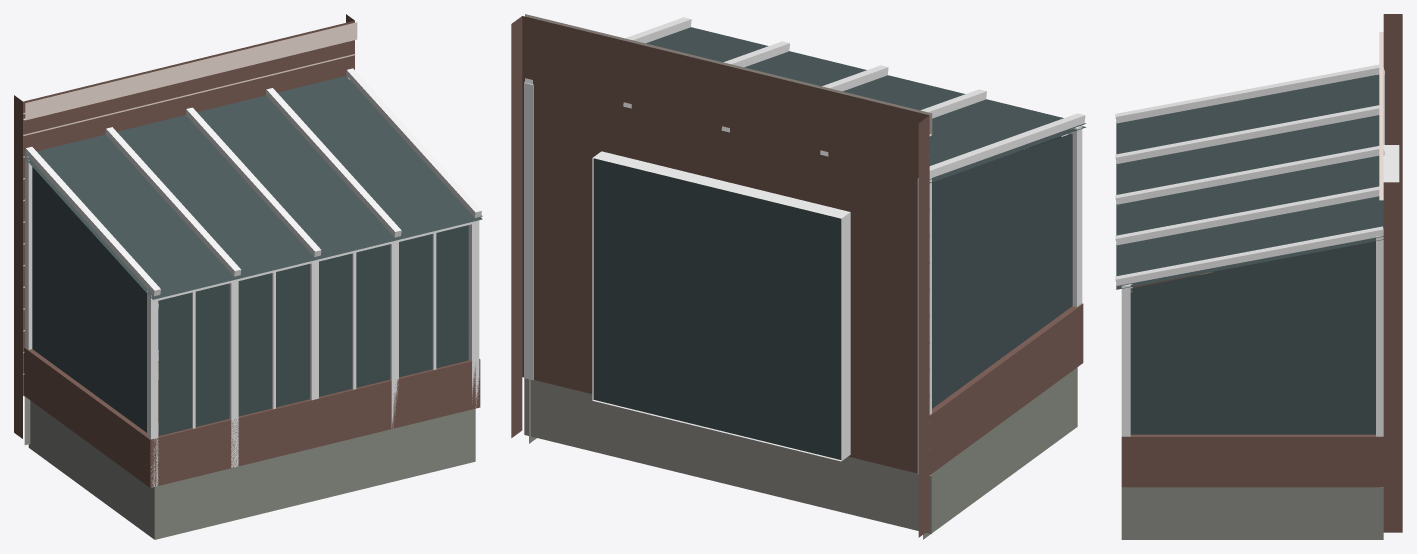
File: base-stair3_close.fbx
3 renders of one model, left to right at view 1: azimuth 30°, elevation 25°; view 2: azimuth 150°, elevation 25°; view 3: azimuth 270°, elevation 25°, orthographic. The views are drawn at different scales.
Visible parts, largest first — view 1: a2000s3/600/base-stair_close; view 2: a2000s3/600/base-stair_close; view 3: a2000s3/600/base-stair_close.
Part boxes in pixels (x1,y1,x2,y2): a2000s3/600/base-stair_close: (14,14,482,539); a2000s3/600/base-stair_close: (511,14,1086,539); a2000s3/600/base-stair_close: (1115,14,1402,539).
Size of the model in its own units: 3.6 by 3.6 by 2.6.
